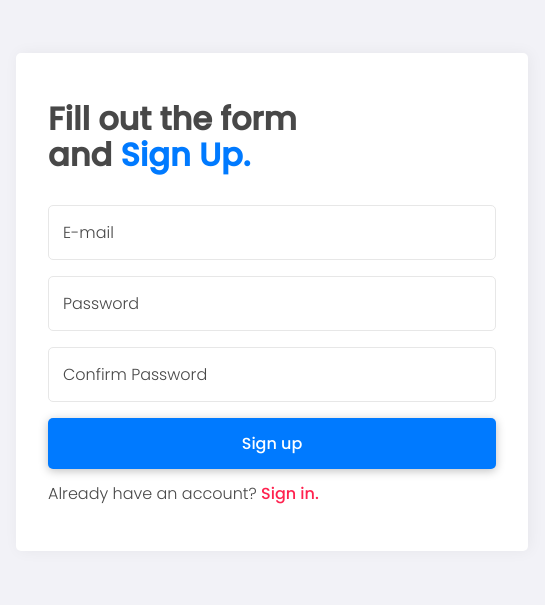
Test case: Signup page validate fileds correctly › throws an error if it is not an email
Type "invalidEmail" into the field with placeholder "E-mail" at (272, 232), box [48, 205, 496, 260]
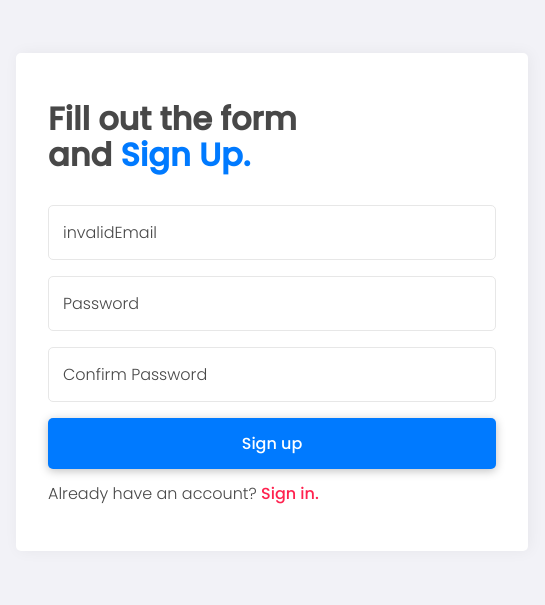
Click the button with test id "Button" at (272, 443), box [48, 418, 496, 469]
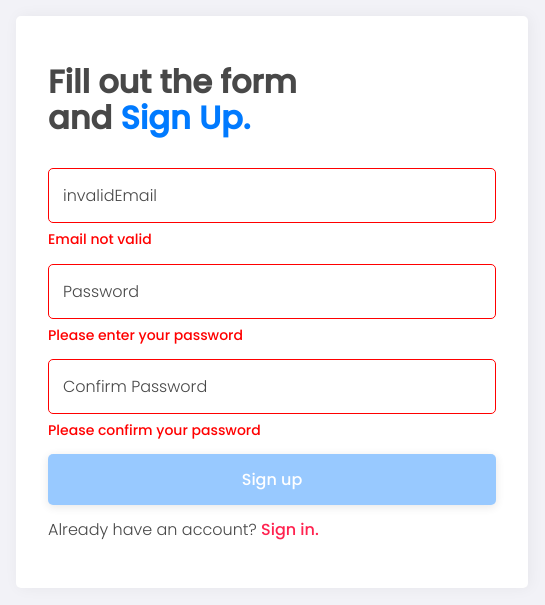
Expected: the text "Email not valid" is shown, [48, 230, 152, 250]
Expected: the text "Please enter your password" is shown, [48, 325, 243, 345]
Expected: the text "Please confirm your password" is shown, [48, 420, 261, 440]
